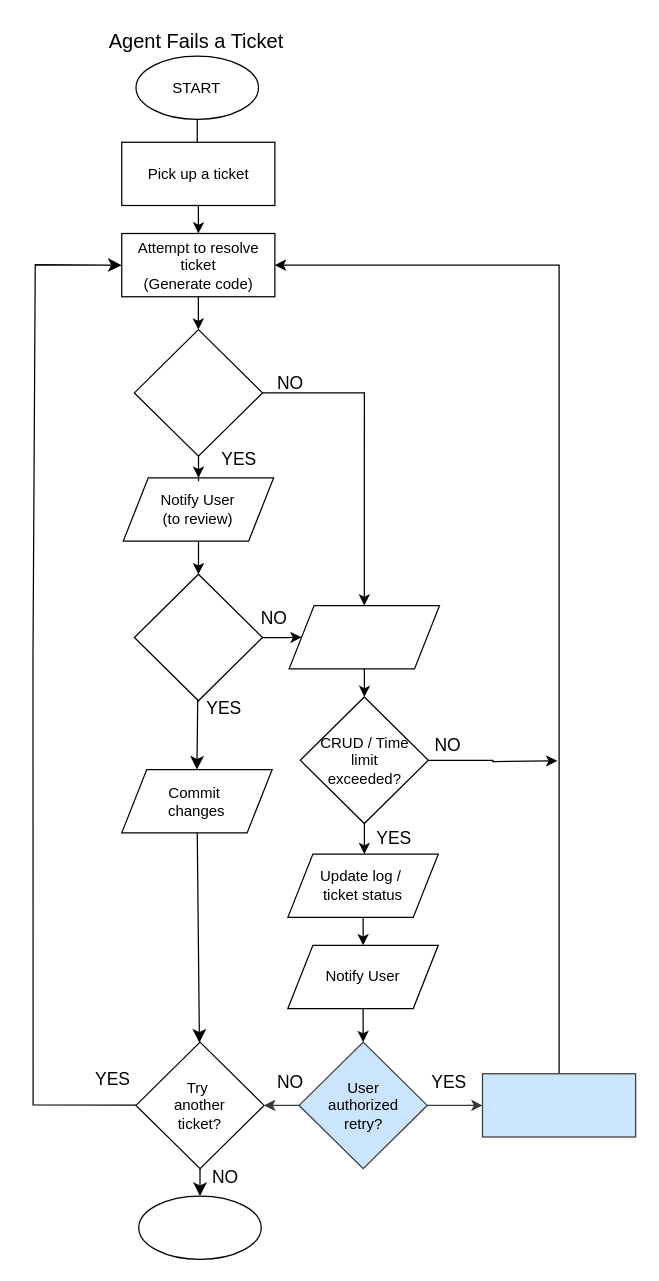
Image size: 659x1281. Some labels were removed from this diagram. The shapes that lost their labels are listed below. From the top down, each one's centre as x and y in pixels, then its label:
point (197, 392): Passes CI tests?
point (197, 637): Success? (i.e User approved)
point (364, 636): Update attempt counter / timer
point (558, 1104): Reset limit
point (199, 1227): END
